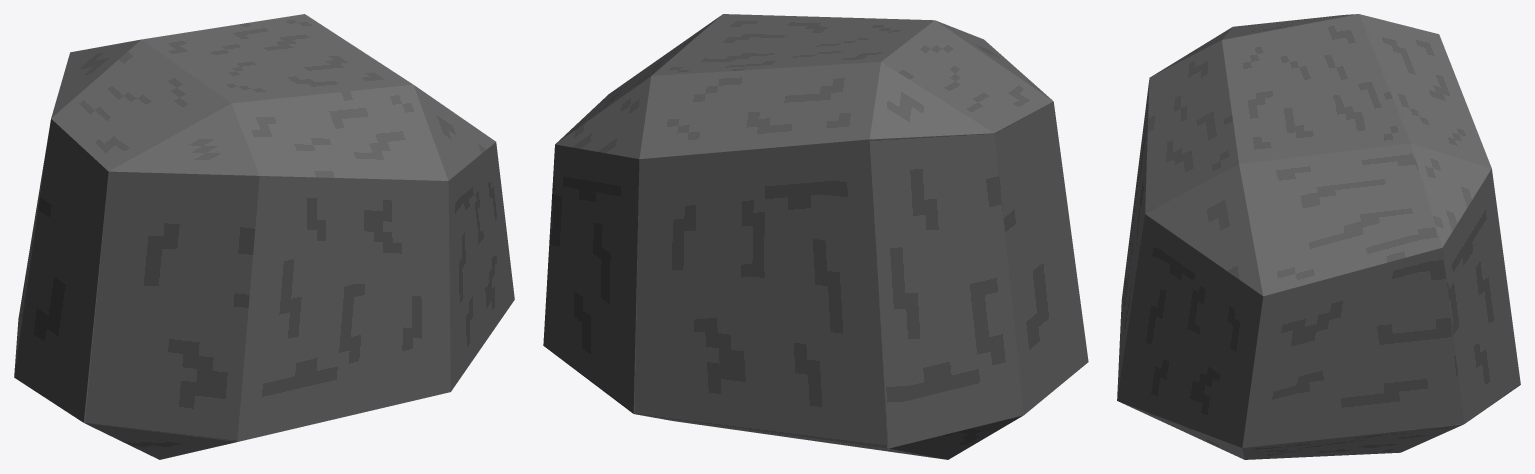
The model's file is Boulder.fbx.
3 renders of one model, left to right at view 1: azimuth 30°, elevation 25°; view 2: azimuth 150°, elevation 25°; view 3: azimuth 270°, elevation 25°, orthographic. The views are drawn at different scales.
Visible parts, largest first — view 1: Boulder; view 2: Boulder; view 3: Boulder.
Part boxes in pixels (x1=…): Boulder: x1=14, y1=14, x2=514, y2=459; Boulder: x1=543, y1=14, x2=1088, y2=459; Boulder: x1=1117, y1=14, x2=1520, y2=459.
Bounding box in the file's own units: 0.643 × 0.506 × 0.5194.
